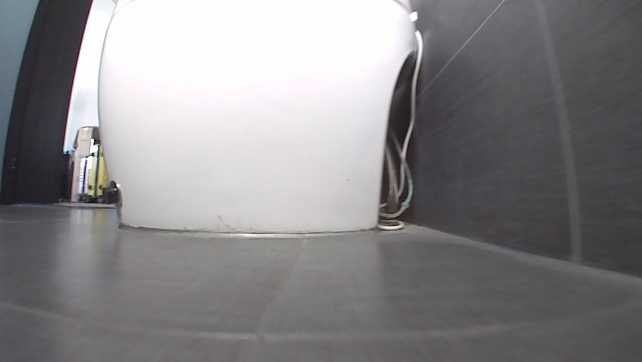toilet: (97, 0, 419, 240)
wire: (378, 29, 423, 231)
